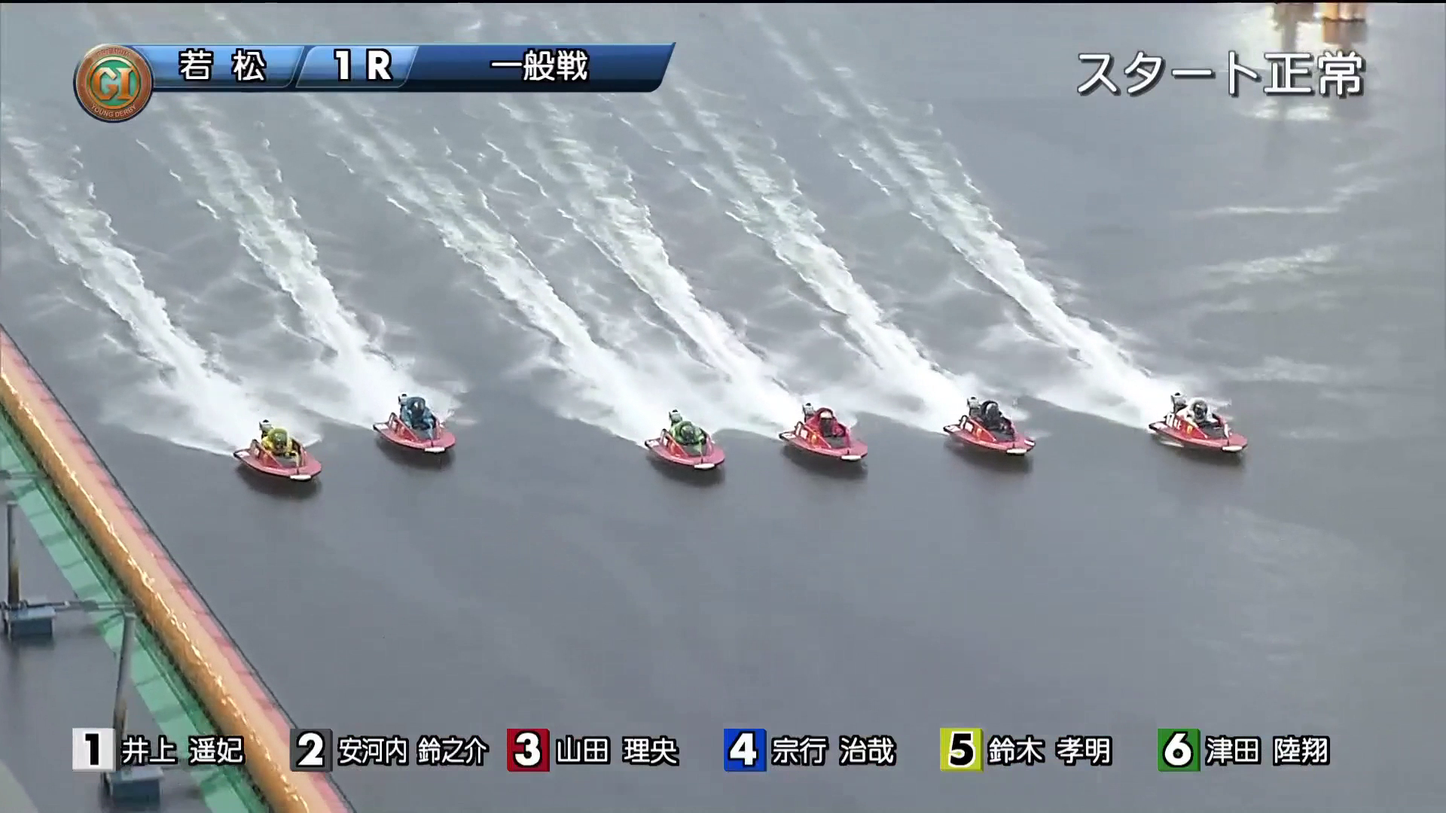１号艇: (1164, 397, 1253, 440)
２号艇: (955, 405, 1047, 445)
３号艇: (788, 425, 883, 467)
４号艇: (633, 417, 739, 462)
５号艇: (349, 389, 470, 444)
６号艇: (242, 428, 342, 485)
